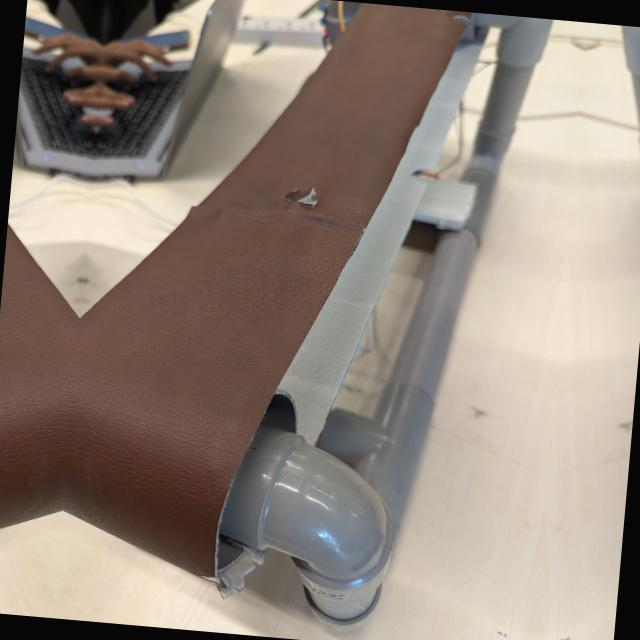joint_damage: (278, 160, 338, 221)
